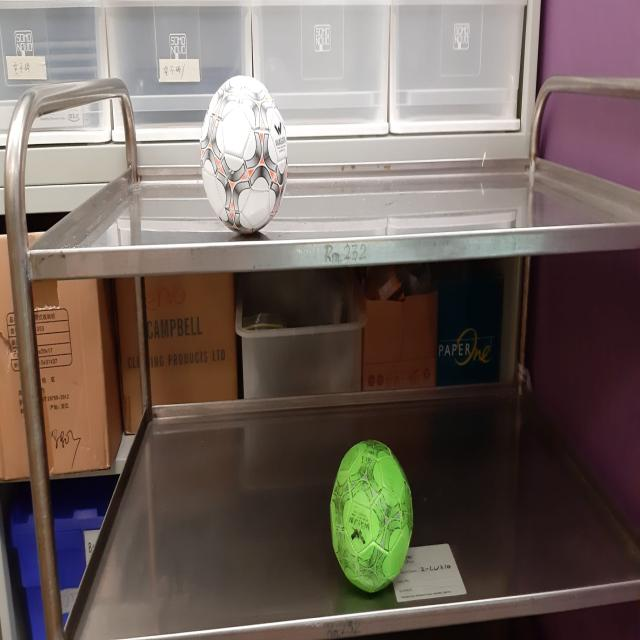ball: (201, 76, 287, 235), (331, 440, 414, 594)
